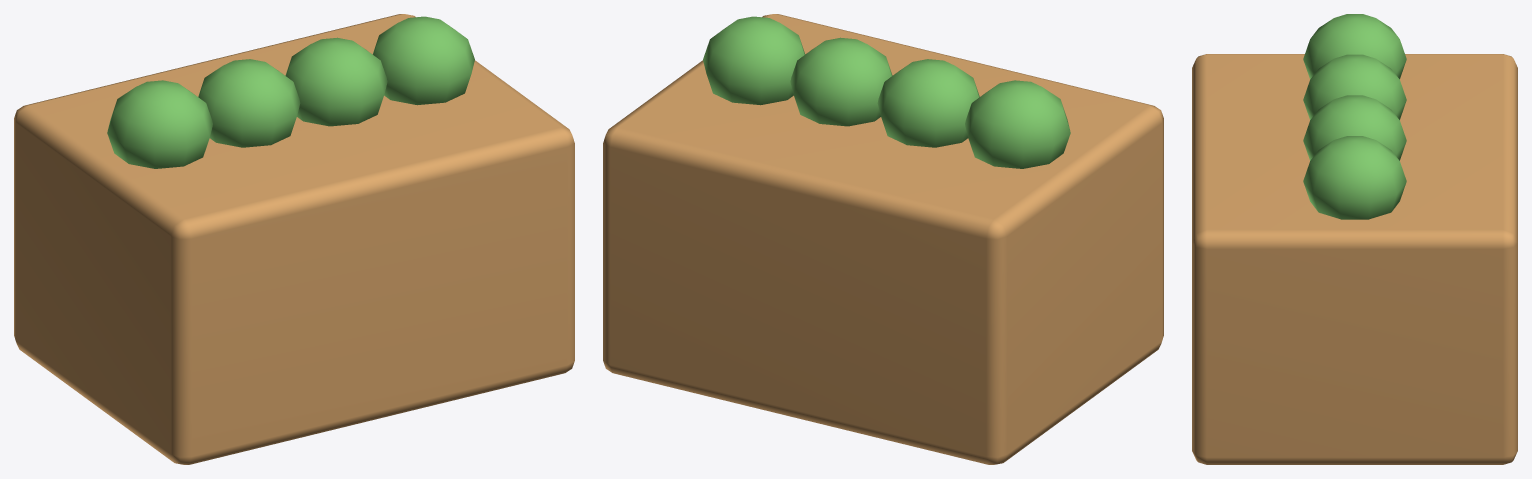
The model's file is crate.glb.
The picture shows the model from 3 angles, left to right: view 1: azimuth 30°, elevation 25°; view 2: azimuth 150°, elevation 25°; view 3: azimuth 270°, elevation 25°; orthographic projection. The views are drawn at different scales.
Visible parts, largest first — view 1: Crate, Veg, Veg.003, Veg.001, Veg.002; view 2: Crate, Veg, Veg.003, Veg.001, Veg.002; view 3: Crate, Veg.003, Veg.001, Veg.002, Veg.
Boxes of the visible parts, box(x1,y1,x2,y2) form: Crate: box(14, 14, 574, 464); Veg: box(107, 80, 212, 168); Veg.003: box(372, 16, 474, 105); Veg.001: box(198, 59, 300, 147); Veg.002: box(285, 37, 387, 126); Crate: box(603, 14, 1163, 464); Veg: box(965, 80, 1070, 168); Veg.003: box(703, 16, 805, 105); Veg.001: box(877, 59, 979, 147); Veg.002: box(790, 37, 892, 126); Crate: box(1192, 54, 1517, 464); Veg.003: box(1303, 136, 1406, 219); Veg.001: box(1303, 54, 1406, 119); Veg.002: box(1303, 95, 1406, 160); Veg: box(1303, 14, 1406, 79).
Bounding box in the file's own units: 0.6 × 0.44 × 0.44.
